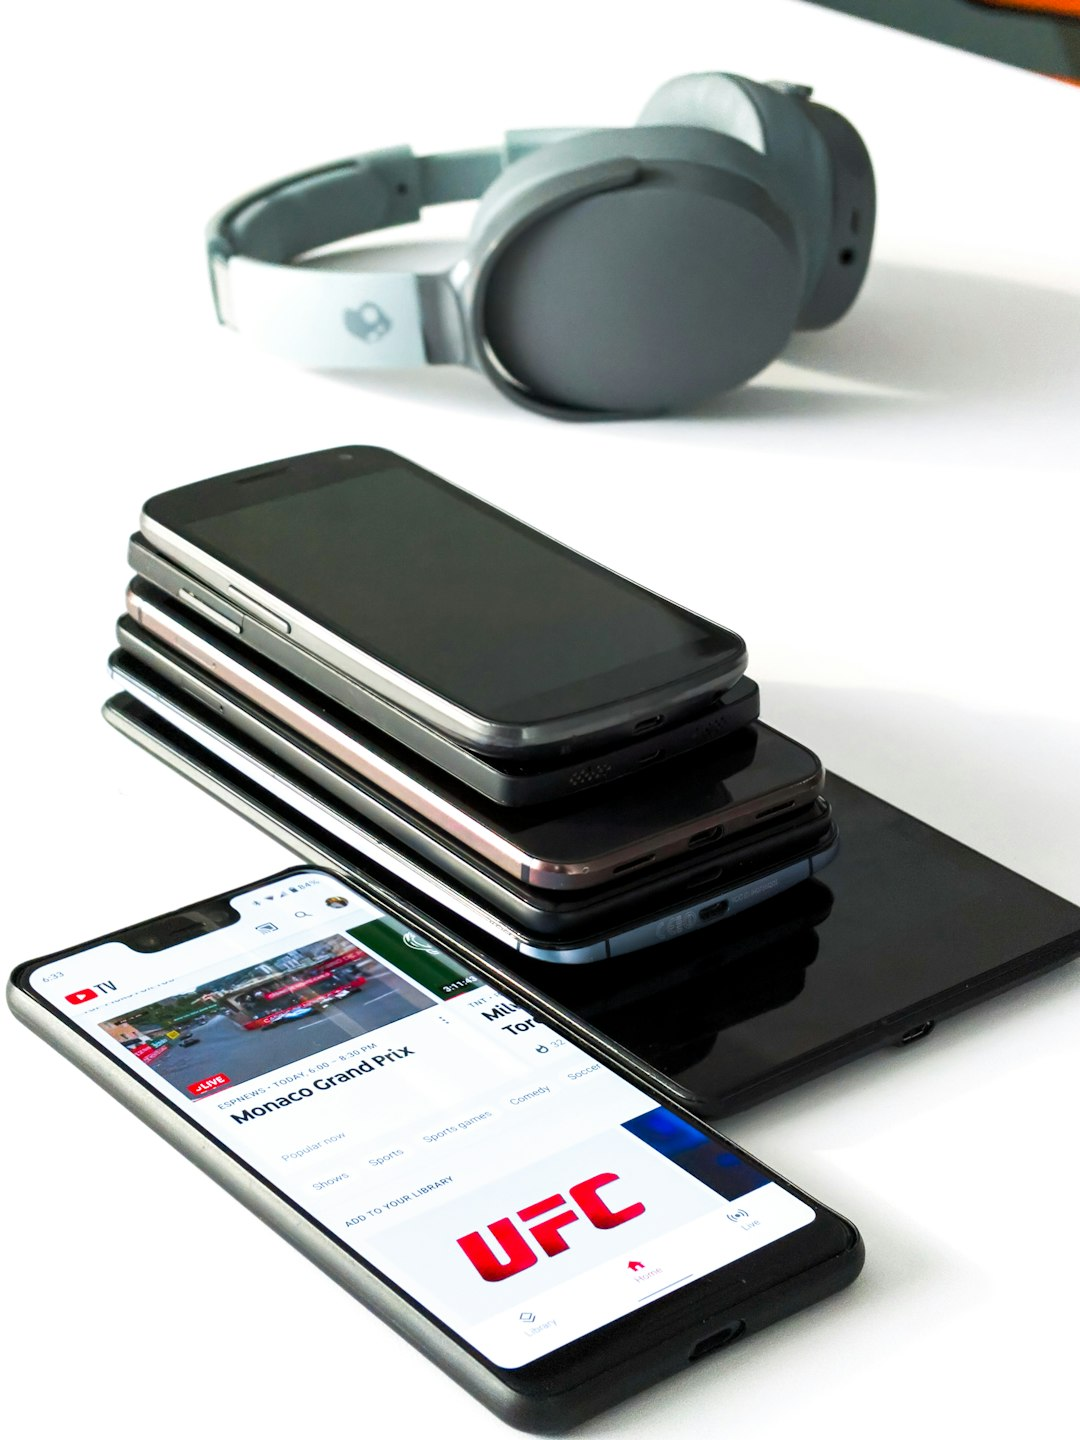phone: (9, 864, 869, 1440)
